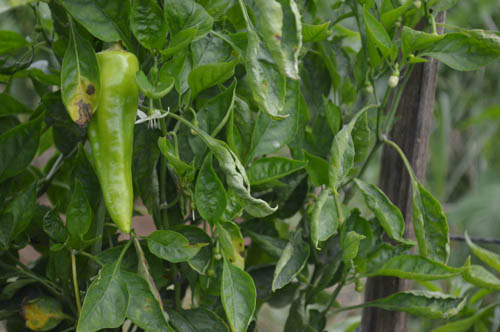ChiliPepper: (88, 50, 140, 232)
